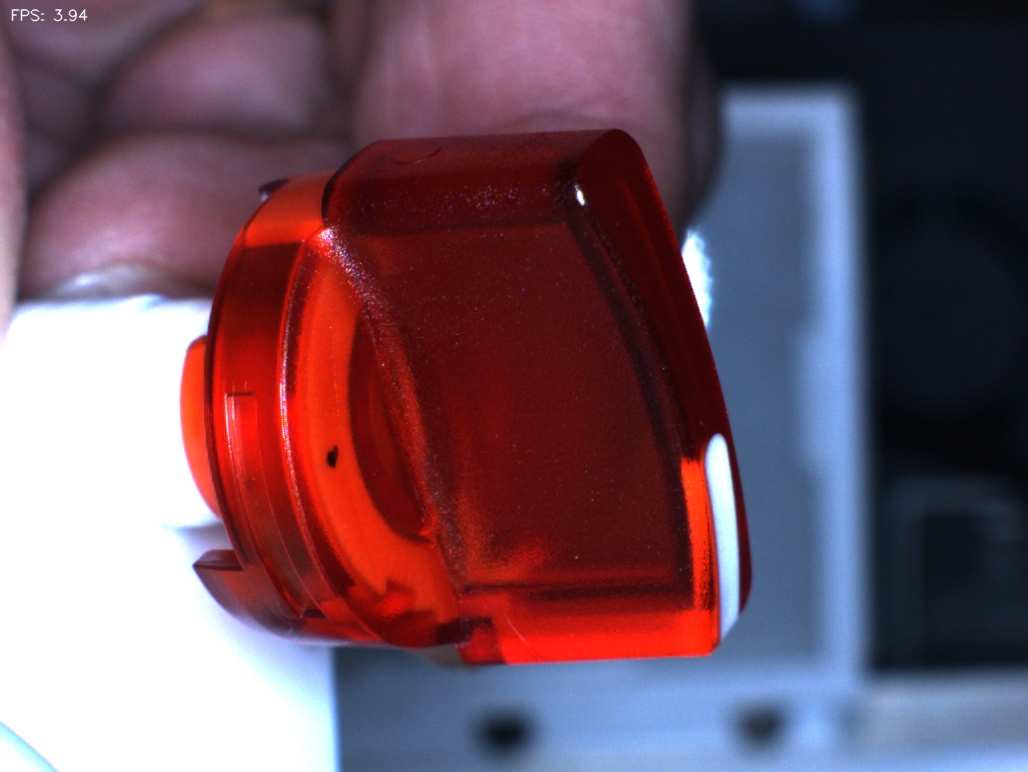PointNoir: (298, 422, 369, 493)
